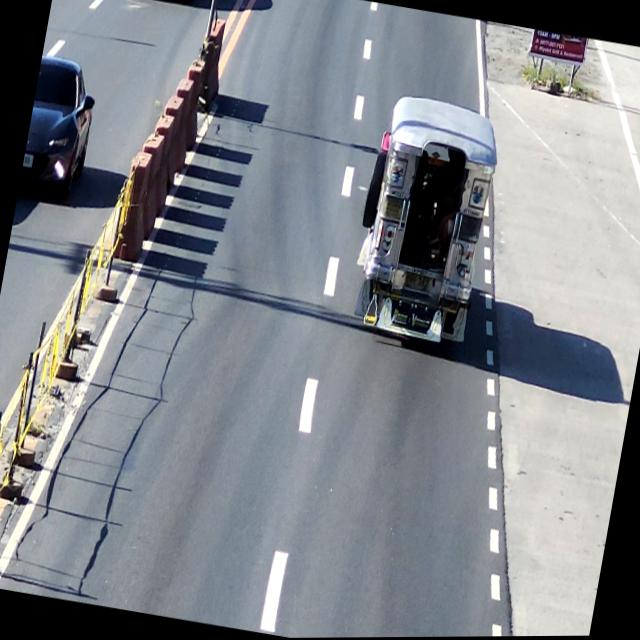Car: (17, 50, 104, 207), (118, 0, 206, 9)
Jeep: (342, 90, 512, 362)
